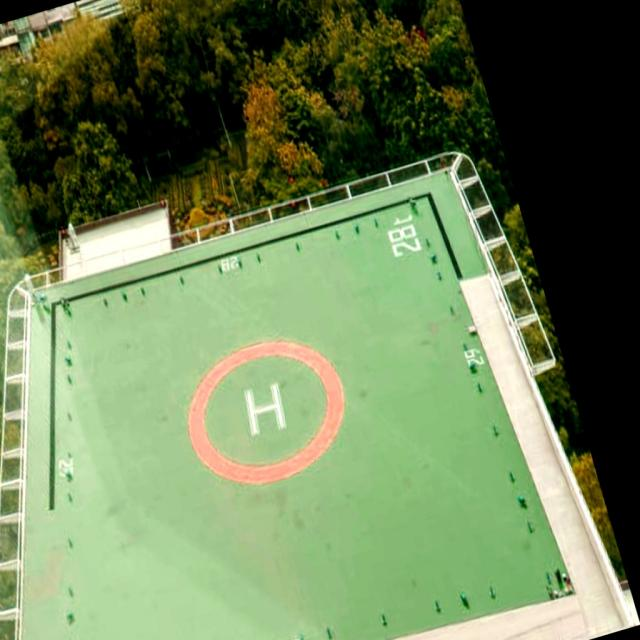helipad: (185, 337, 348, 488)
